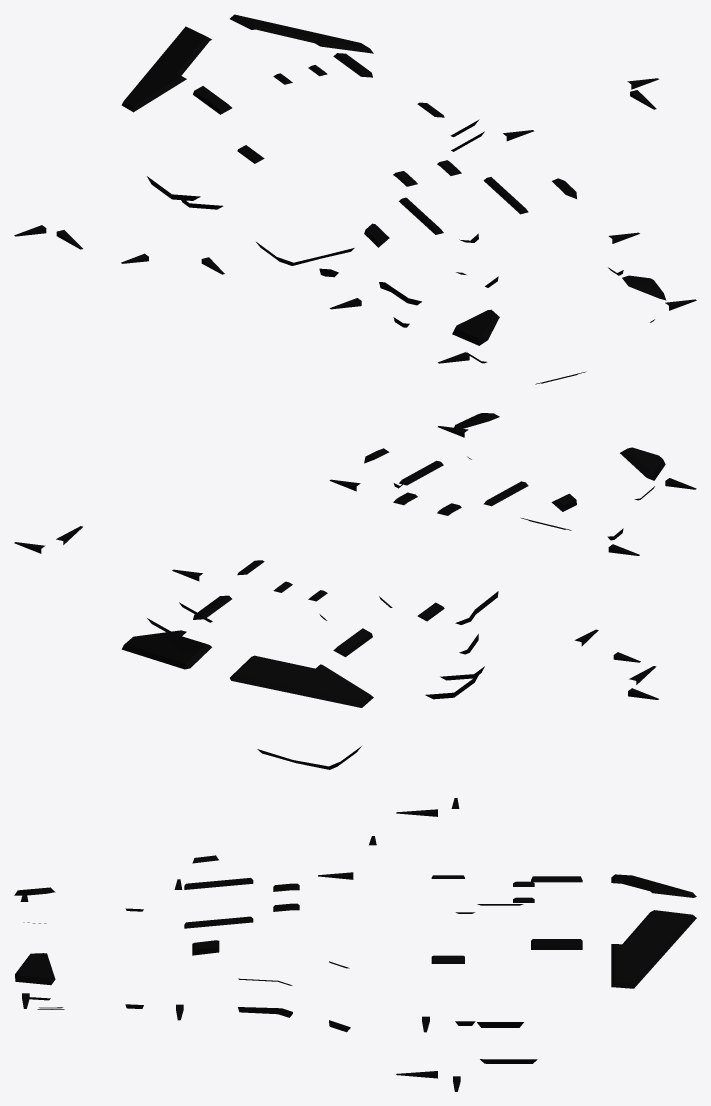
The model's file is hgn_cf_assa_01_t1.glb.
3 views of the same model, one above another, from view 1: azimuth 30°, elevation 25°; view 2: azimuth 150°, elevation 25°; view 3: azimuth 270°, elevation 25° (orthographic). The views are drawn at different scales.
Parts seen in each view (by area): view 1: hgn_assault_frigate_01_t1_LOD0; view 2: hgn_assault_frigate_01_t1_LOD0; view 3: hgn_assault_frigate_01_t1_LOD0.
Part boxes in pixels (x1,y1,x2,y2): hgn_assault_frigate_01_t1_LOD0: (14, 14, 696, 384); hgn_assault_frigate_01_t1_LOD0: (14, 413, 696, 769); hgn_assault_frigate_01_t1_LOD0: (14, 798, 696, 1091).
Size of what is drawn, in the model's own units: 1.86 by 0.4705 by 1.82.
1 material, 1 textured.
